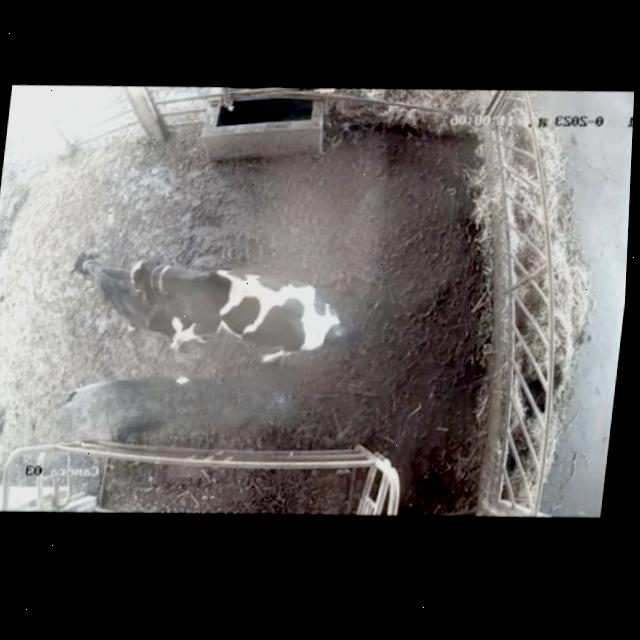ride: (116, 243, 374, 368)
stand: (48, 221, 174, 356)
